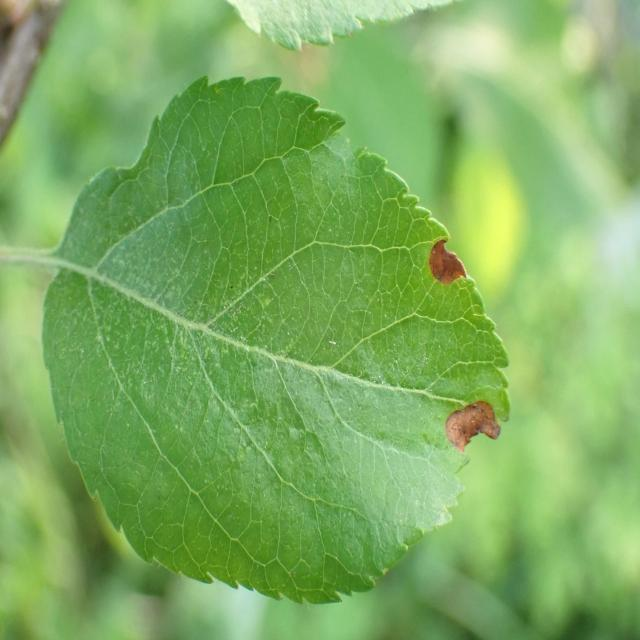Black Rot: (414, 204, 478, 331), (441, 381, 504, 465)
